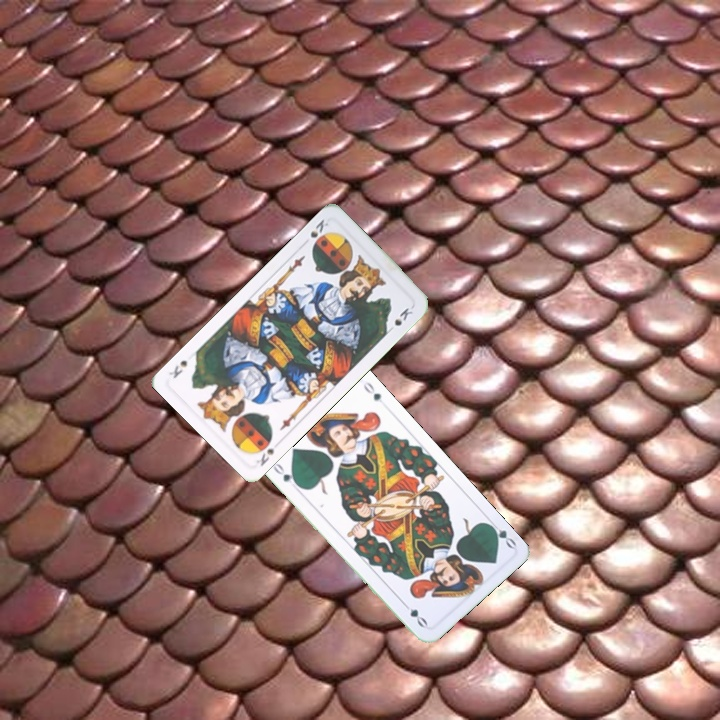GO: (484, 516, 519, 551), (269, 458, 302, 489)
SK: (251, 434, 283, 469), (298, 215, 331, 248)
